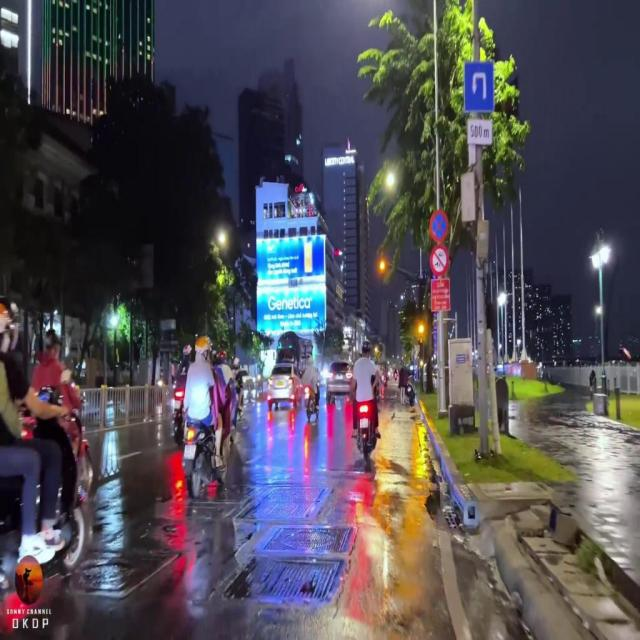cam_cac_loai_xe_3_banh: (430, 246, 449, 276)
cam_dung_xe_va_do_xe: (429, 210, 449, 244)
cho_quay_xe: (465, 63, 494, 114)
khac: (467, 118, 493, 147)
